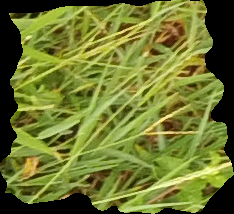grass: (1, 1, 232, 212)
